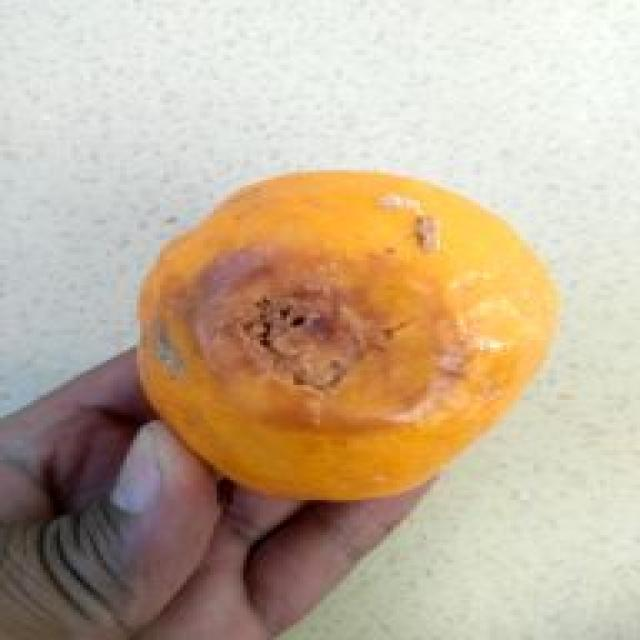Bad_Orange: (140, 172, 557, 499)
